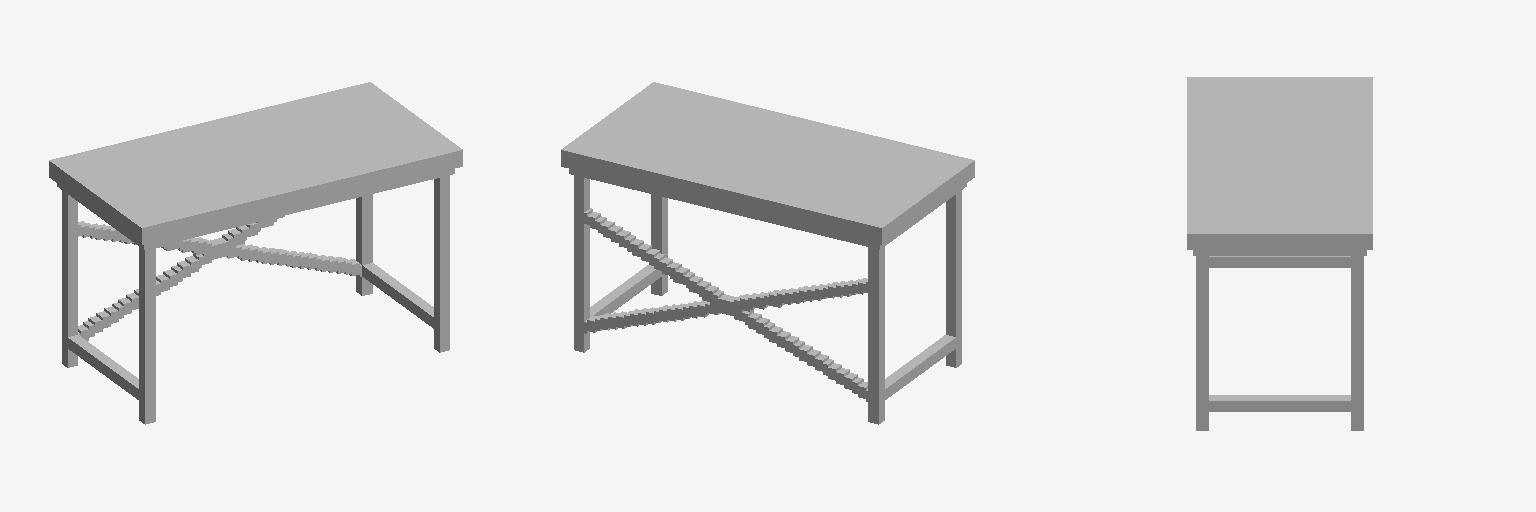
File: desk.obj
3 views of the same model, side by side, from view 1: azimuth 30°, elevation 25°; view 2: azimuth 150°, elevation 25°; view 3: azimuth 270°, elevation 25° (orthographic).
Size of the model in its own units: 120 by 72 by 60.